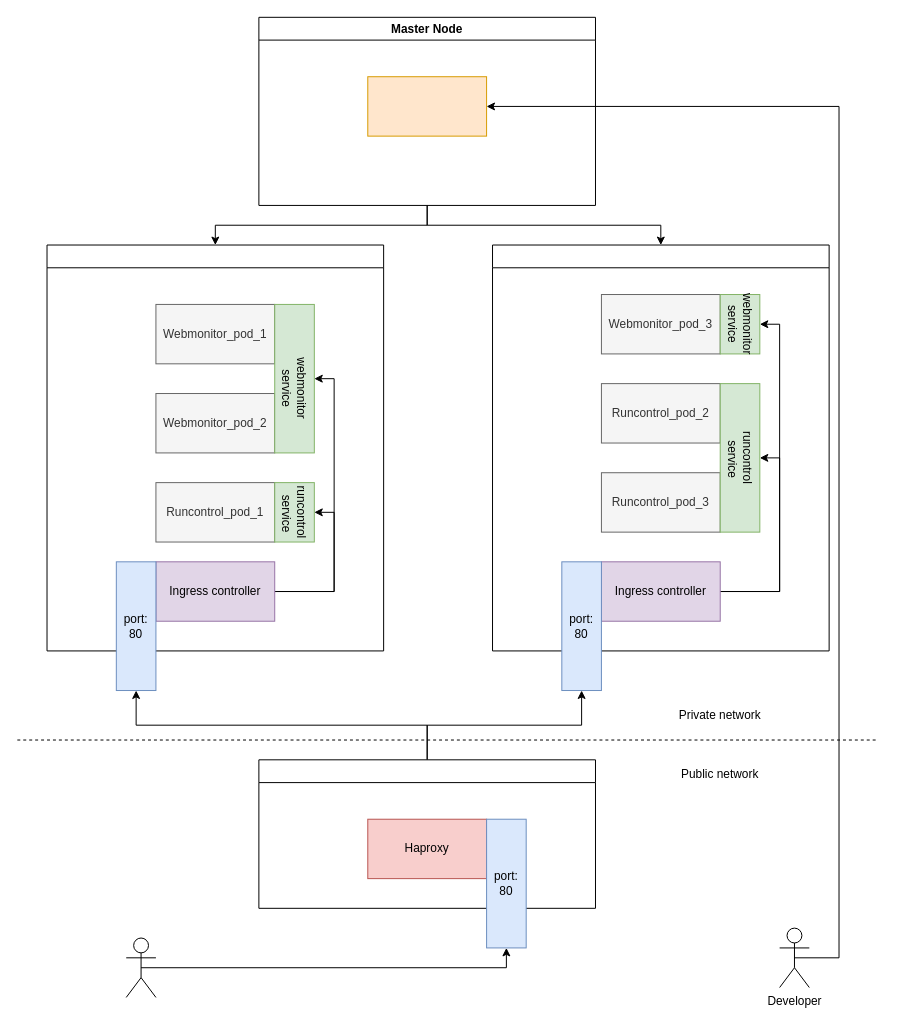
Image size: 897x1036. Some labels were removed from this diagram. Here are the shapes that lost their labels. From the top down, the box of each, then its label:
(367, 76, 487, 136): kubectl api
(46, 244, 384, 651): Slave Node 1
(492, 244, 829, 651): Slave Node 2
(258, 759, 595, 908): Public facing entrypoint/loadbalancer
(125, 937, 156, 997): User
